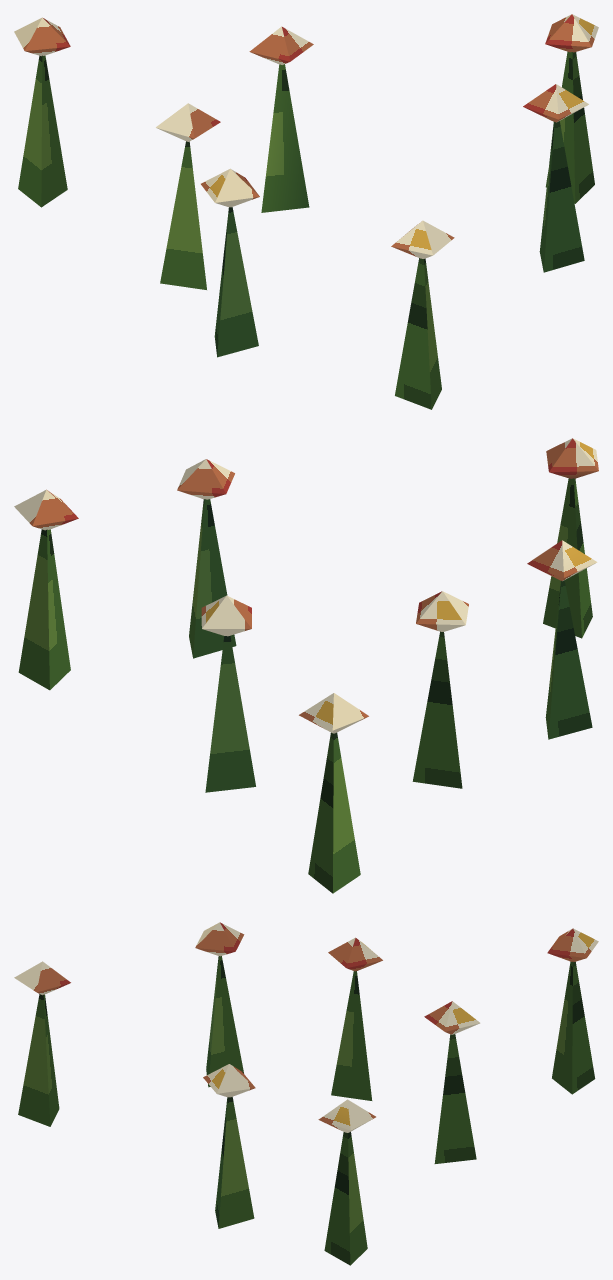
The model's file is mnat.flowers.glb.
3 renders of one model, top to bottom at view 1: azimuth 30°, elevation 25°; view 2: azimuth 150°, elevation 25°; view 3: azimuth 270°, elevation 25°, orthographic. The views are drawn at different scales.
Parts seen in each view (by area): view 1: kit_plants, kit_heads; view 2: kit_plants, kit_heads; view 3: kit_plants, kit_heads.
Part boxes in pixels (x1,y1,x2,y2): kit_plants: (18, 51, 594, 409); kit_heads: (14, 14, 598, 258); kit_plants: (18, 478, 592, 893); kit_heads: (14, 438, 598, 733); kit_plants: (18, 956, 595, 1265); kit_heads: (14, 922, 598, 1132).
Bounding box in the file's own units: 1.13 × 0.41 × 1.4.
Materials: 2 (2 with a texture image).
